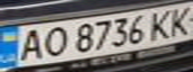3: (109, 16, 133, 48)
6: (127, 11, 151, 45)
7: (90, 17, 115, 52)
8: (72, 20, 96, 54)
A: (12, 26, 48, 62)
K: (145, 7, 178, 40), (163, 3, 193, 37)
O: (36, 24, 72, 57)
